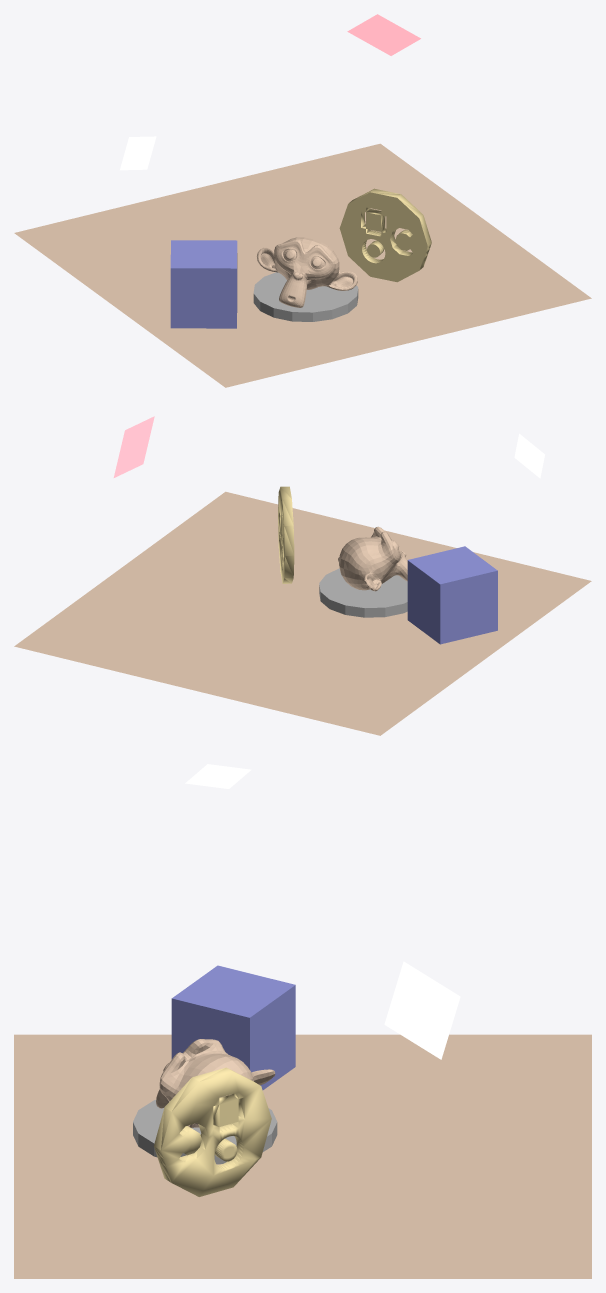
3 renders of one model, top to bottom at view 1: azimuth 30°, elevation 25°; view 2: azimuth 150°, elevation 25°; view 3: azimuth 270°, elevation 25°, orthographic. The views are drawn at different scales.
Visible parts, largest first — view 1: Ground, badge, Cube, Suzanne, Base, Light_fill, Light_key; view 2: Ground, Cube, Suzanne, Base, badge, Light_fill, Light_key; view 3: Ground, badge, Cube, Light_fill, Suzanne, Base, Light_key.
Boxes of the visible parts, x1,y1,x2,y2 form: Ground: (14, 143, 591, 387); badge: (339, 188, 431, 282); Cube: (170, 240, 237, 328); Suzanne: (257, 237, 357, 307); Base: (253, 272, 358, 321); Light_fill: (347, 14, 420, 55); Light_key: (120, 136, 156, 170); Ground: (14, 491, 591, 735); Cube: (407, 546, 497, 644); Suzanne: (338, 526, 407, 591); Base: (319, 568, 407, 617); badge: (278, 486, 294, 583); Light_fill: (113, 416, 154, 477); Light_key: (514, 433, 544, 478); Ground: (14, 1034, 591, 1278); badge: (154, 1067, 271, 1196); Cube: (171, 965, 295, 1090); Light_fill: (384, 961, 460, 1059); Suzanne: (156, 1039, 275, 1127); Base: (133, 1100, 277, 1164); Light_key: (185, 764, 251, 788).
Bounding box in the file's own units: 4.3 × 4 × 2.08.
